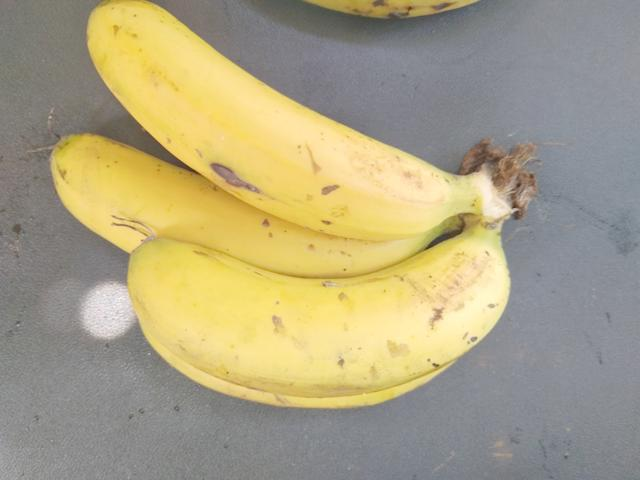ripe: (89, 11, 473, 229), (123, 224, 517, 406), (36, 121, 316, 274)
